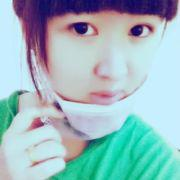WRONG: (43, 11, 159, 127)
